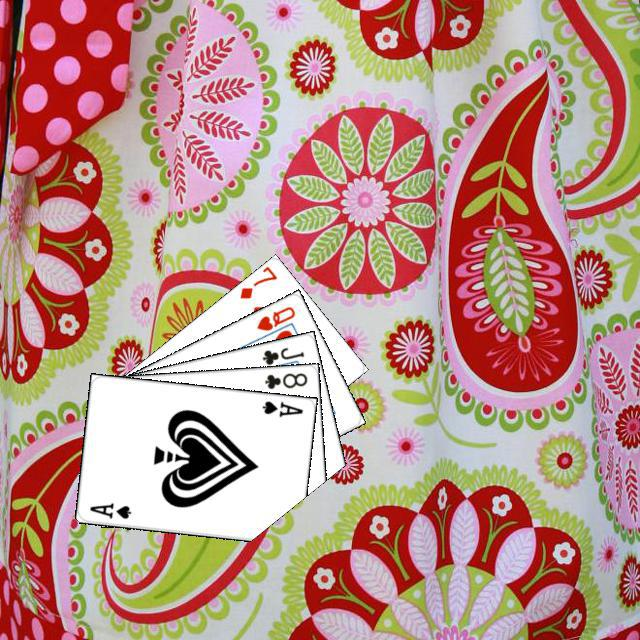7d: (235, 262, 279, 301)
8c: (260, 368, 309, 391)
As: (257, 396, 304, 419), (85, 498, 133, 520)
Jc: (257, 342, 306, 367)
Qh: (252, 301, 297, 333)
